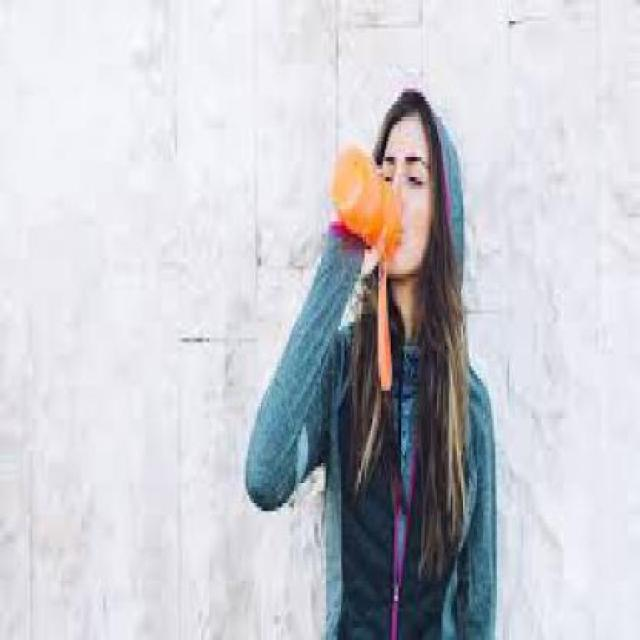Drinking: (334, 145, 406, 269)
